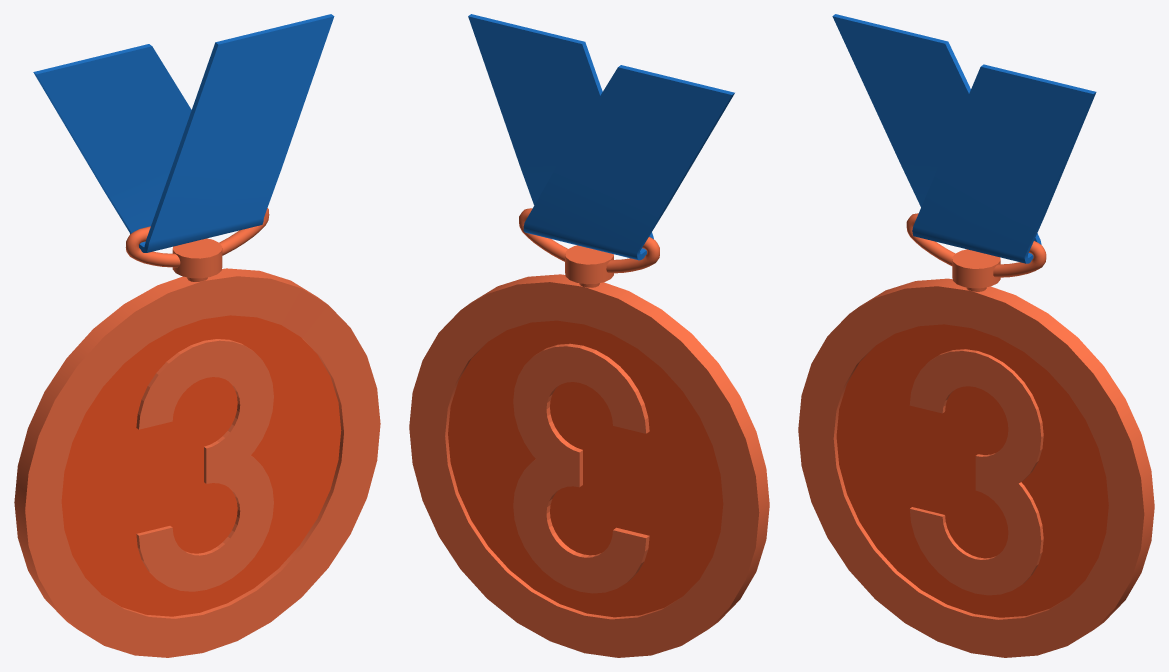
File: 3rd_place_medal.glb
The picture shows the model from 3 angles, left to right: view 1: azimuth 30°, elevation 25°; view 2: azimuth 150°, elevation 25°; view 3: azimuth 330°, elevation 25°; orthographic projection. The views are drawn at different scales.
Visible parts, largest first — view 1: Circle.2517, Cube.809, Cylinder.474; view 2: Circle.2517, Cube.809, Cylinder.474; view 3: Circle.2517, Cube.809, Cylinder.474.
Part boxes in pixels (<box>): Circle.2517: <box>14,268,380,657</box>; Cube.809: <box>33,14,334,252</box>; Cylinder.474: <box>125,208,269,281</box>; Circle.2517: <box>409,274,769,657</box>; Cube.809: <box>468,14,734,260</box>; Cylinder.474: <box>519,208,659,287</box>; Circle.2517: <box>798,278,1154,657</box>; Cube.809: <box>832,14,1096,263</box>; Cylinder.474: <box>906,213,1046,291</box>.
Bounding box in the file's own units: 1.4 × 2.29 × 0.1711.
1 material, 1 textured.
